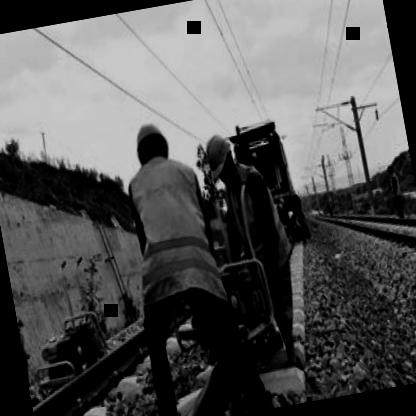helmet: (130, 114, 174, 176), (198, 127, 240, 188)
